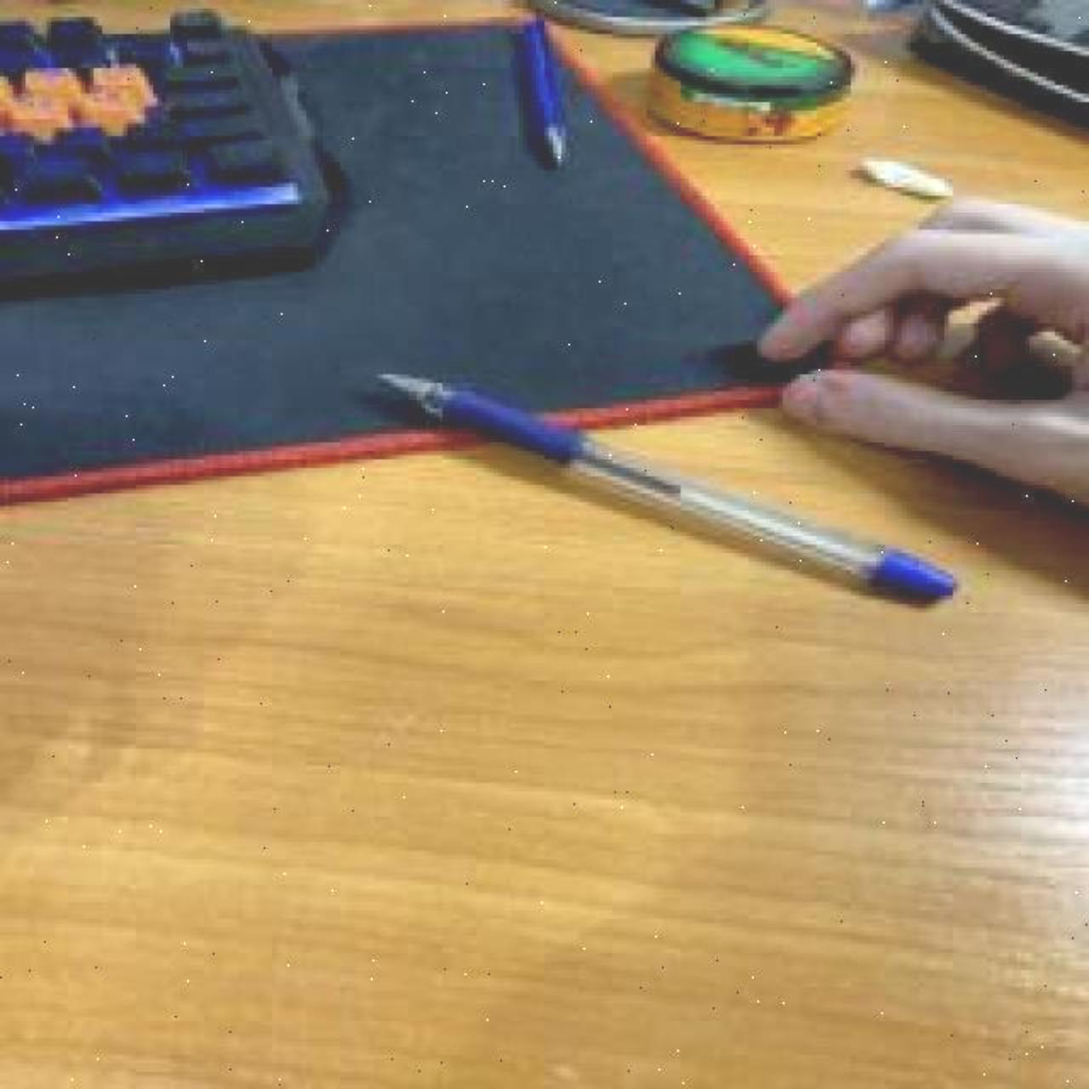pen: (369, 366, 961, 604)
